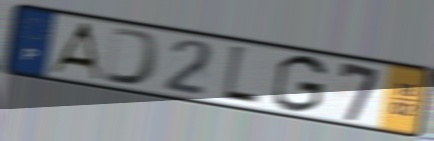2: (161, 38, 215, 96)
7: (339, 59, 381, 124)
A: (45, 21, 103, 83)
D: (100, 24, 163, 89)
G: (270, 53, 330, 115)
L: (220, 42, 263, 109)
